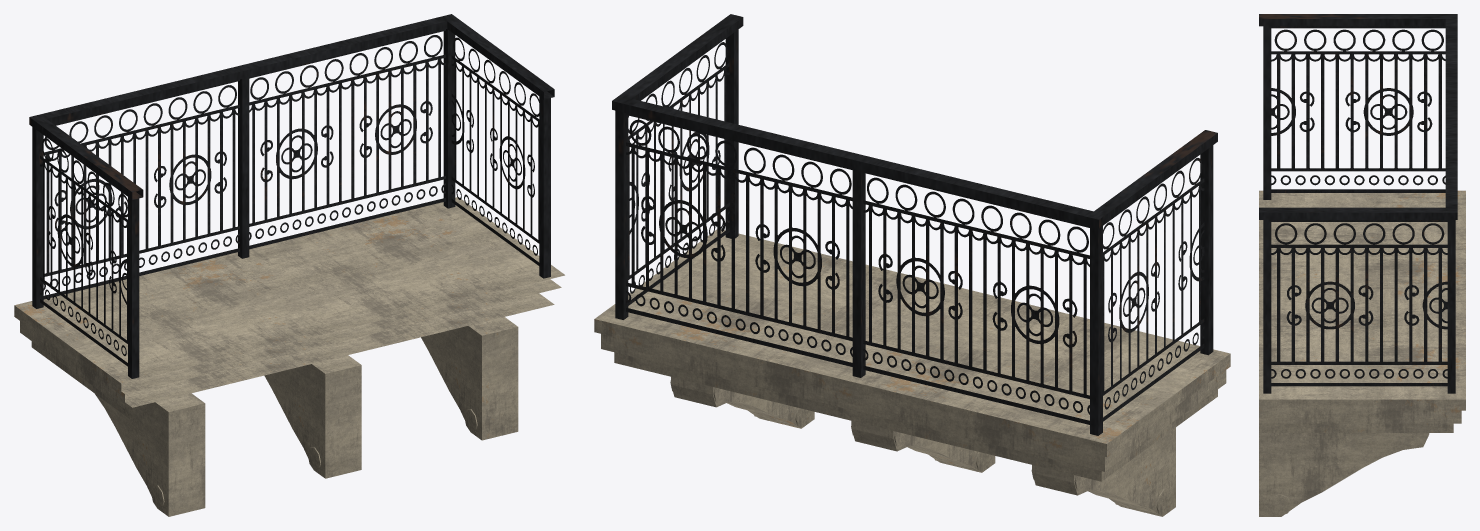
Rendered from balcony_gruenderzeit.glb.
3 views of the same model, side by side, from view 1: azimuth 30°, elevation 25°; view 2: azimuth 150°, elevation 25°; view 3: azimuth 270°, elevation 25° (orthographic). The views are drawn at different scales.
Visible parts, largest first — view 1: balcony_gruenderzeit; view 2: balcony_gruenderzeit; view 3: balcony_gruenderzeit.
Boxes of the visible parts, x1=… form: balcony_gruenderzeit: x1=14, y1=14, x2=564, y2=516; balcony_gruenderzeit: x1=594, y1=14, x2=1230, y2=516; balcony_gruenderzeit: x1=1259, y1=14, x2=1465, y2=516.
Size of the model in its own units: 2.44 by 1.75 by 1.02.
2 materials, 2 textured.
